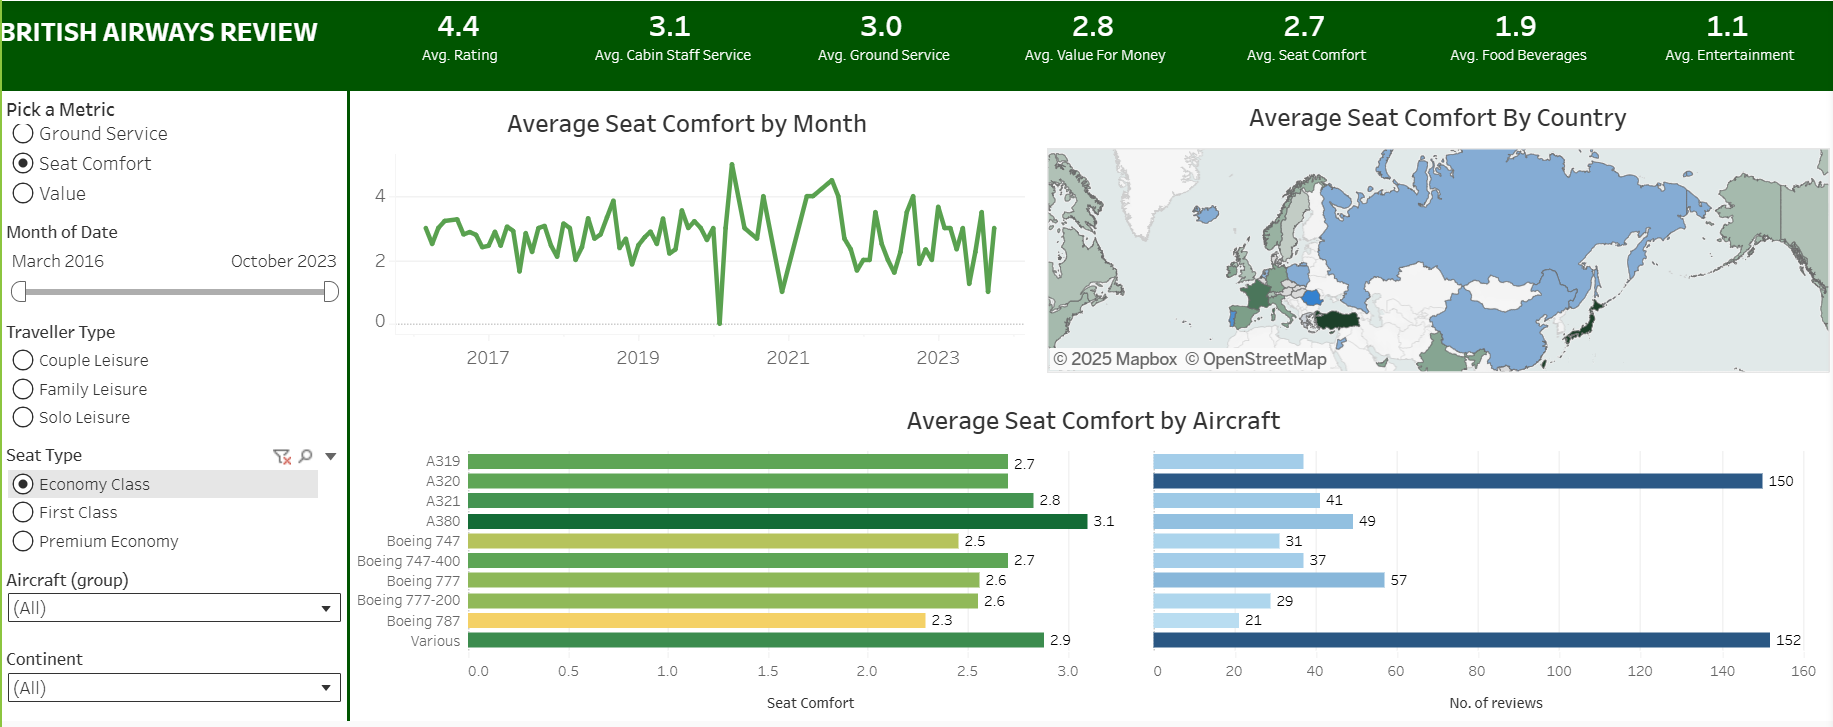

What the dashboard file says about the page in this screenshot:
{"tool":"tableau","page":{"name":"Dashboard 1","canvas":[1200,700],"ordinal":0},"visuals":[{"type":"parameter","param":"[Parameters].[Parameter 1]","box":[0,105,227,129]},{"type":"blank","box":[226,106,2,595]},{"type":"worksheet","title":"map","mark":"Automatic","box":[684,106,511,266]},{"type":"worksheet","title":"month","mark":"Automatic","rows":["Calculation_14918230334558572"],"cols":["date"],"box":[228,112,441,265]},{"type":"filter","title":"map","param":"[federated.06eep3n0zpwhu119nvv9t1wykhz1].[tmn:date:qk]","box":[0,234,227,74]},{"type":"filter","title":"map","param":"[federated.06eep3n0zpwhu119nvv9t1wykhz1].[none:traveller_type:nk]","box":[0,308,227,129]},{"type":"worksheet","title":"aircraft","mark":"Automatic","cols":["Calculation_14918230334558572","ba_reviews.csv_581BB8A668124472BD3DF4D77CA76C68"],"box":[227,392,974,308]},{"type":"filter","title":"map","param":"[federated.06eep3n0zpwhu119nvv9t1wykhz1].[none:seat_type:nk]","box":[0,437,227,129]},{"type":"filter","title":"map","param":"[federated.06eep3n0zpwhu119nvv9t1wykhz1].[Aircraft (group)]","box":[0,566,227,67]},{"type":"filter","title":"map","param":"[federated.06eep3n0zpwhu119nvv9t1wykhz1].[none:Continent:nk]","box":[0,633,227,67]}]}

Visuals, with their boxes on the page's 1200x700 design canvas (x1, y1, x2, y2). These are canvas units, not pixel positions in the 1833x727 screenshot, which may show the page scaled, cropped or inside an application window:
parameter: pyautogui.locateOnScreen(0, 105, 227, 234)
blank: pyautogui.locateOnScreen(226, 106, 228, 701)
"map" worksheet: pyautogui.locateOnScreen(684, 106, 1195, 372)
"month" worksheet: pyautogui.locateOnScreen(228, 112, 669, 377)
"map" filter: pyautogui.locateOnScreen(0, 234, 227, 308)
"map" filter: pyautogui.locateOnScreen(0, 308, 227, 437)
"aircraft" worksheet: pyautogui.locateOnScreen(227, 392, 1201, 700)
"map" filter: pyautogui.locateOnScreen(0, 437, 227, 566)
"map" filter: pyautogui.locateOnScreen(0, 566, 227, 633)
"map" filter: pyautogui.locateOnScreen(0, 633, 227, 700)
